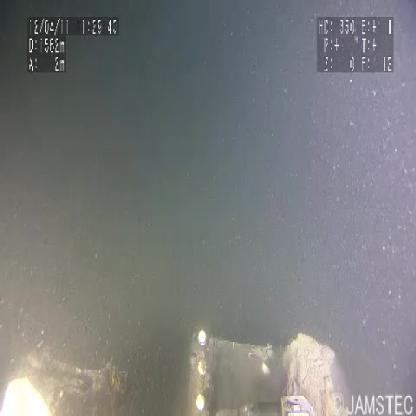Rác: (0, 375, 56, 415)
